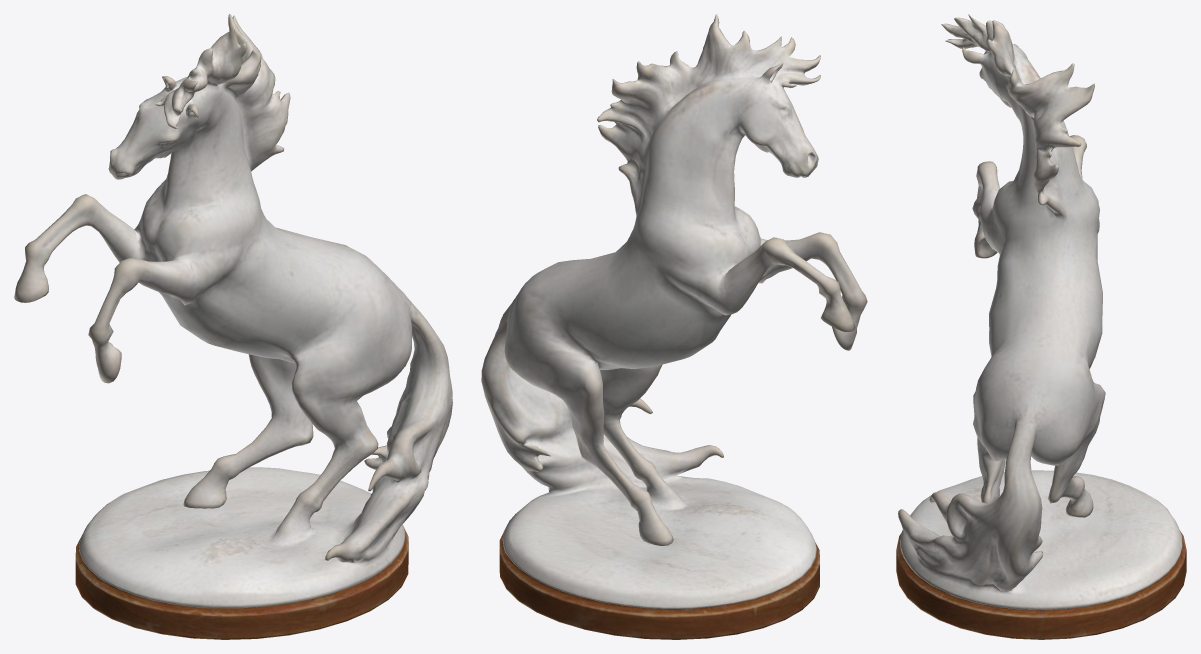
File: horse-statue.glb
3 renders of one model, left to right at view 1: azimuth 30°, elevation 25°; view 2: azimuth 150°, elevation 25°; view 3: azimuth 270°, elevation 25°, orthographic. The views are drawn at different scales.
Visible parts, largest first — view 1: horse_statue_01; view 2: horse_statue_01; view 3: horse_statue_01.
Part boxes in pixels (x1,y1,x2,y2): horse_statue_01: [14, 14, 452, 639]; horse_statue_01: [481, 14, 867, 639]; horse_statue_01: [896, 14, 1186, 639].
Bounding box in the file's own units: 0.1638 × 0.22 × 0.1078.
1 material, 1 textured.
